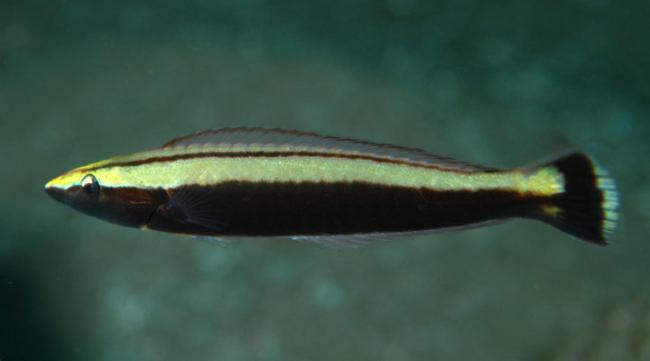fish: (43, 126, 621, 247)
